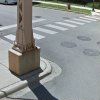crosswalk: (3, 15, 99, 45)
